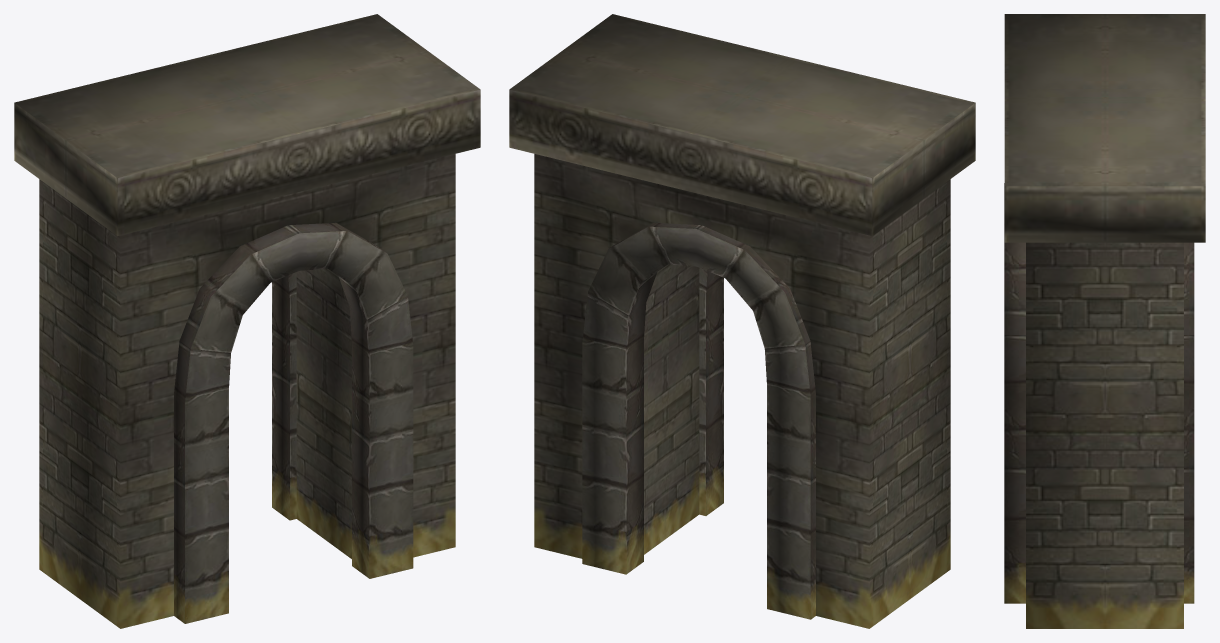
The model's file is Battle05_Gate_02.FBX.
3 renders of one model, left to right at view 1: azimuth 30°, elevation 25°; view 2: azimuth 150°, elevation 25°; view 3: azimuth 270°, elevation 25°, orthographic. The views are drawn at different scales.
Visible parts, largest first — view 1: Battle05_Gate_02; view 2: Battle05_Gate_02; view 3: Battle05_Gate_02.
Boxes of the visible parts, x1,y1,x2,y2 form: Battle05_Gate_02: (14,14,480,628); Battle05_Gate_02: (509,14,975,628); Battle05_Gate_02: (1004,14,1205,628).
Size of the model in its own units: 22.97 by 27.94 by 11.33.
